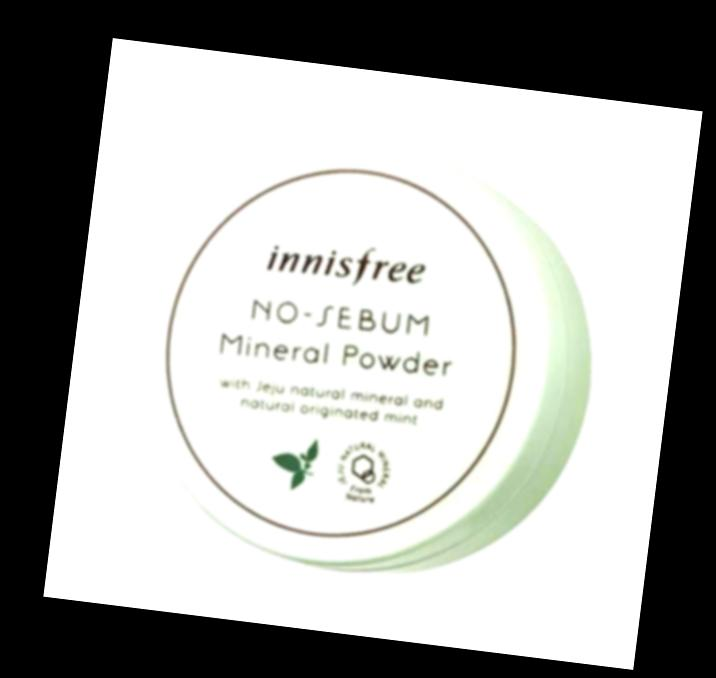cosmetic: (125, 123, 606, 589)
